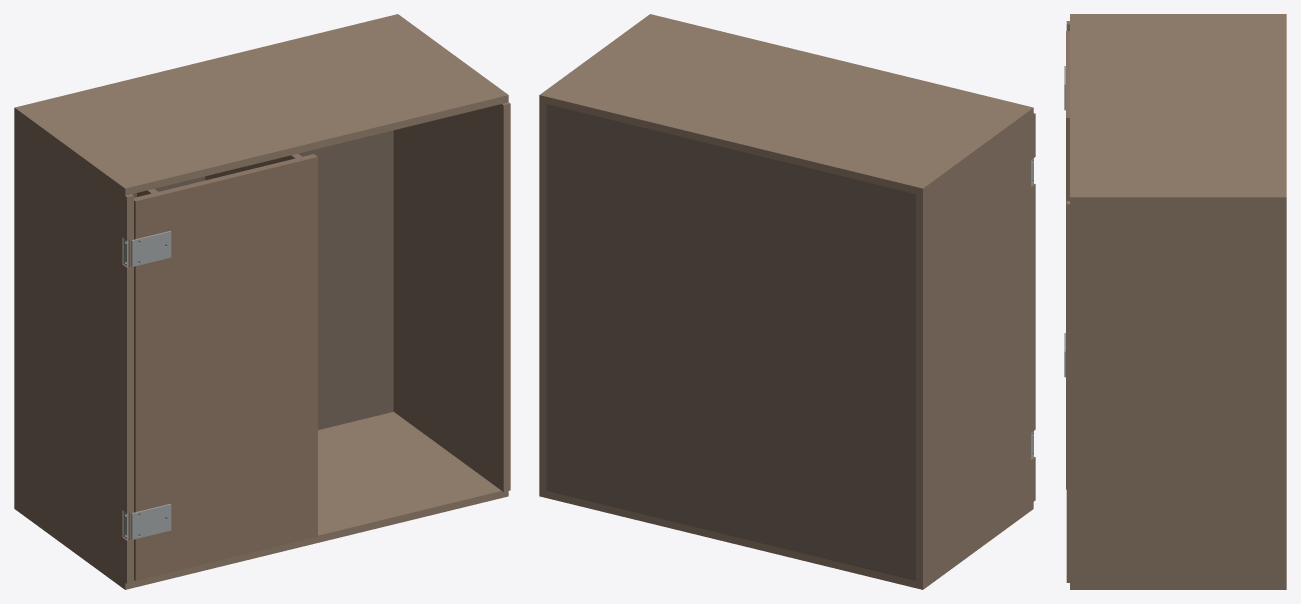
File: closed.glb
The picture shows the model from 3 angles, left to right: view 1: azimuth 30°, elevation 25°; view 2: azimuth 150°, elevation 25°; view 3: azimuth 270°, elevation 25°; orthographic projection. The views are drawn at different scales.
Visible parts, largest first — view 1: Door-face-18, Side-18-rebated, Top-18, Opposite-side-18, Back-12, Bottom-18, DIRAK-moving-flat-2, DIRAK-moving-flat-1; view 2: Back-12, Side-18-rebated, Top-18, Bottom-18, Opposite-side-18; view 3: Opposite-side-18, Top-18, Bottom-18, Door-face-18.
Boxes of the visible parts, left/top/right/bottom form: Door-face-18: left=134, top=154, right=317, bottom=580; Side-18-rebated: left=14, top=115, right=133, bottom=583; Top-18: left=14, top=14, right=508, bottom=195; Opposite-side-18: left=393, top=102, right=510, bottom=491; Back-12: left=132, top=130, right=393, bottom=429; Bottom-18: left=14, top=412, right=508, bottom=589; DIRAK-moving-flat-2: left=131, top=231, right=171, bottom=266; DIRAK-moving-flat-1: left=131, top=503, right=171, bottom=539; Back-12: left=546, top=104, right=915, bottom=580; Side-18-rebated: left=916, top=113, right=1035, bottom=582; Top-18: left=539, top=14, right=1033, bottom=195; Bottom-18: left=539, top=489, right=1033, bottom=589; Opposite-side-18: left=539, top=102, right=546, bottom=490; Opposite-side-18: left=1066, top=201, right=1286, bottom=582; Top-18: left=1070, top=14, right=1286, bottom=204; Bottom-18: left=1070, top=583, right=1286, bottom=589; Door-face-18: left=1066, top=31, right=1069, bottom=489.
Bounding box in the file's own units: 1 × 1 × 0.5135.
